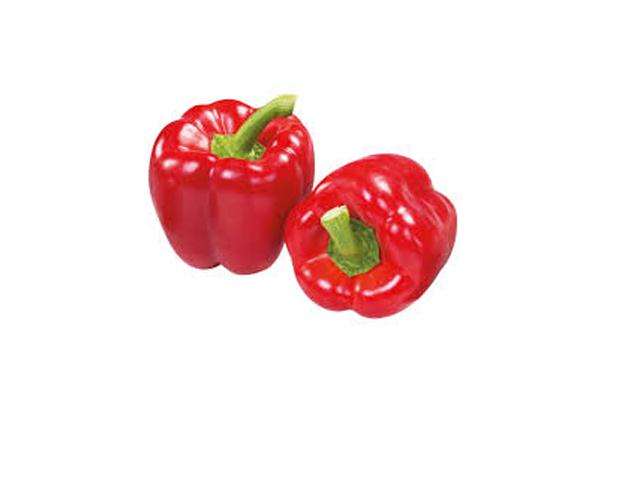bell_pepper: (142, 86, 319, 287)
